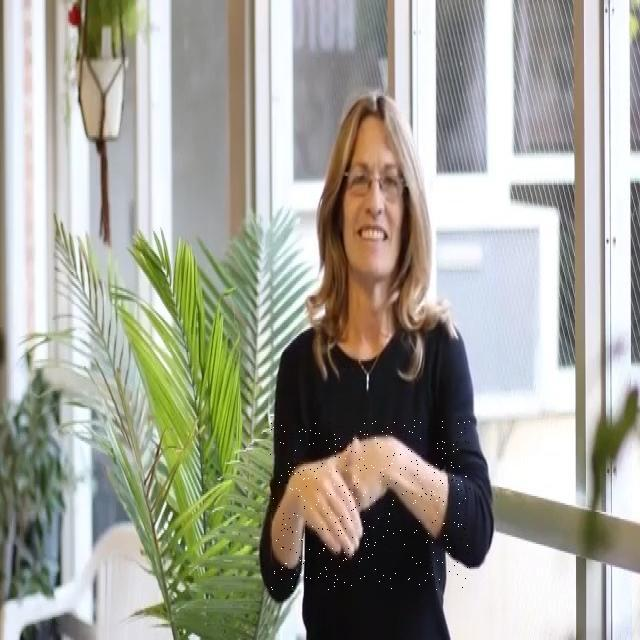bread: (270, 420, 470, 590)
